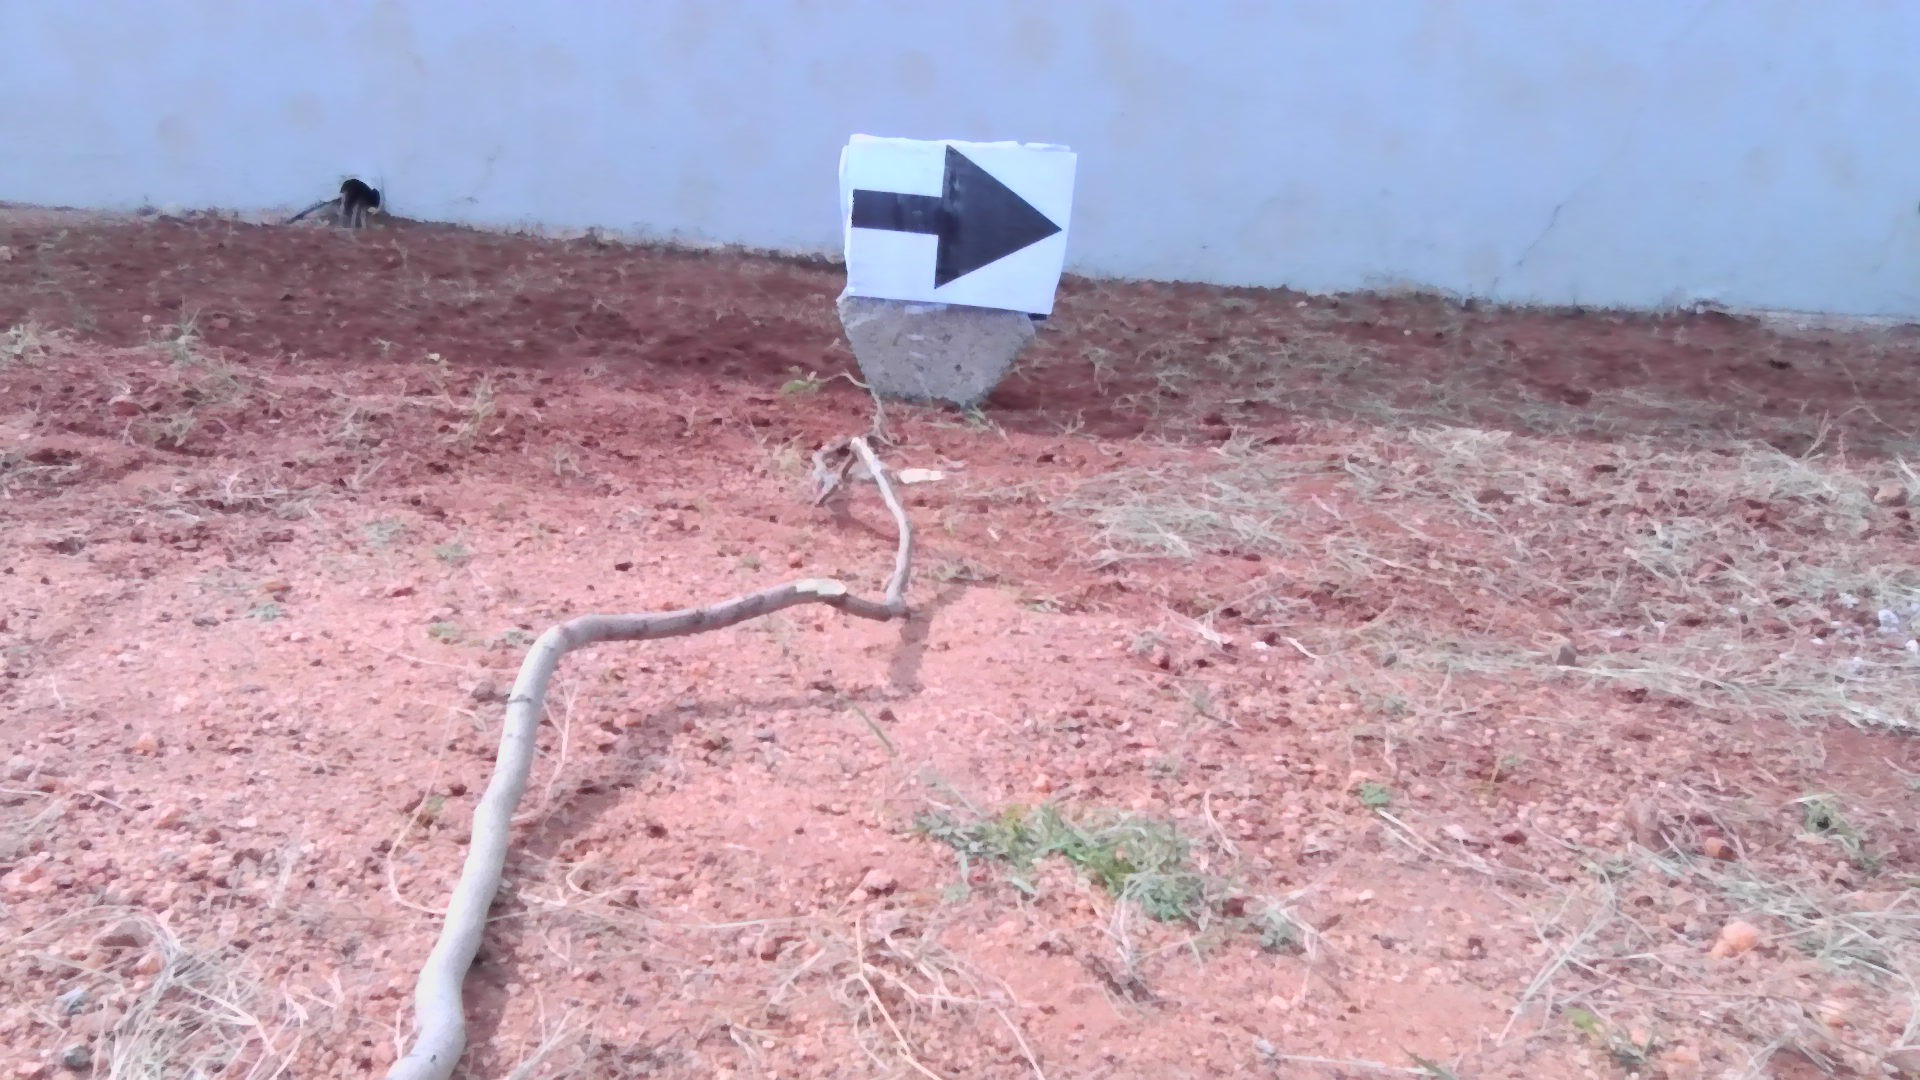leftDir: (841, 146, 1076, 299)
